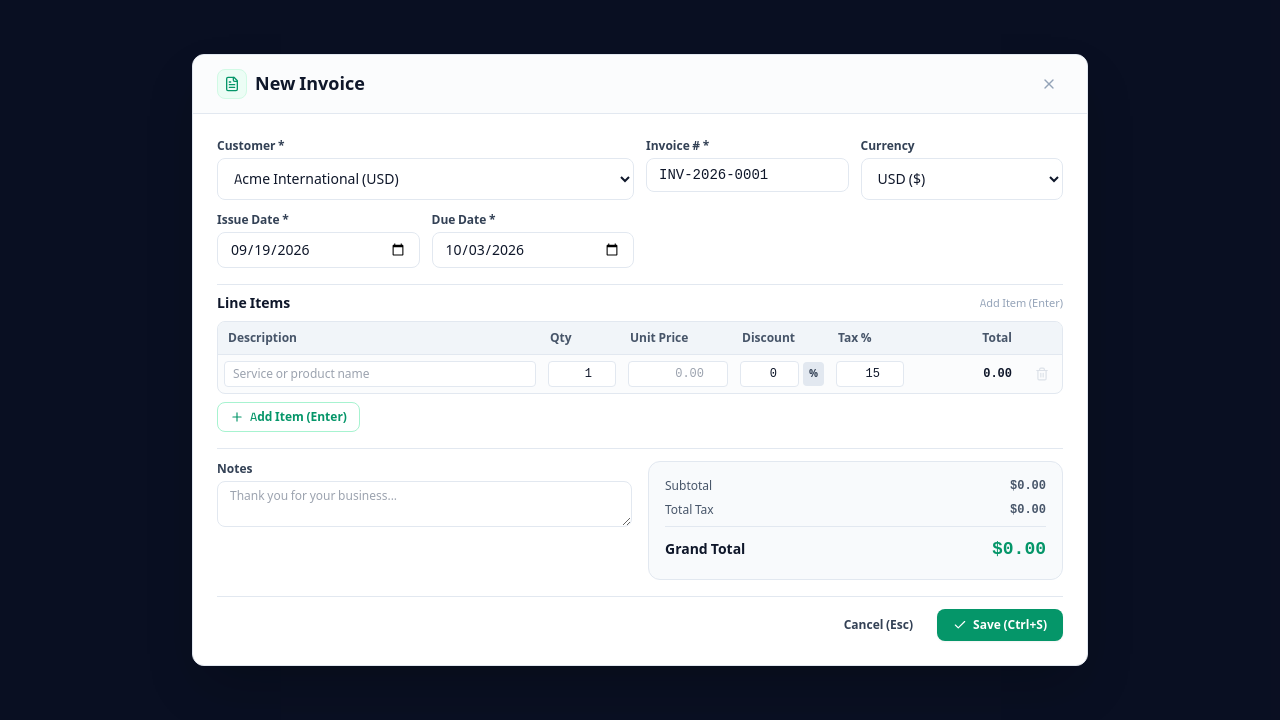
Integration Test: InvoiceForm Component (AC3 & Real-Time Calculations) › validates required fields and rejects submission when due date is before issue date
Type "2026-09-20" into the date field labelled "Issue Date *". click: (318, 250)
box: x1=217 y1=232 x2=420 y2=268
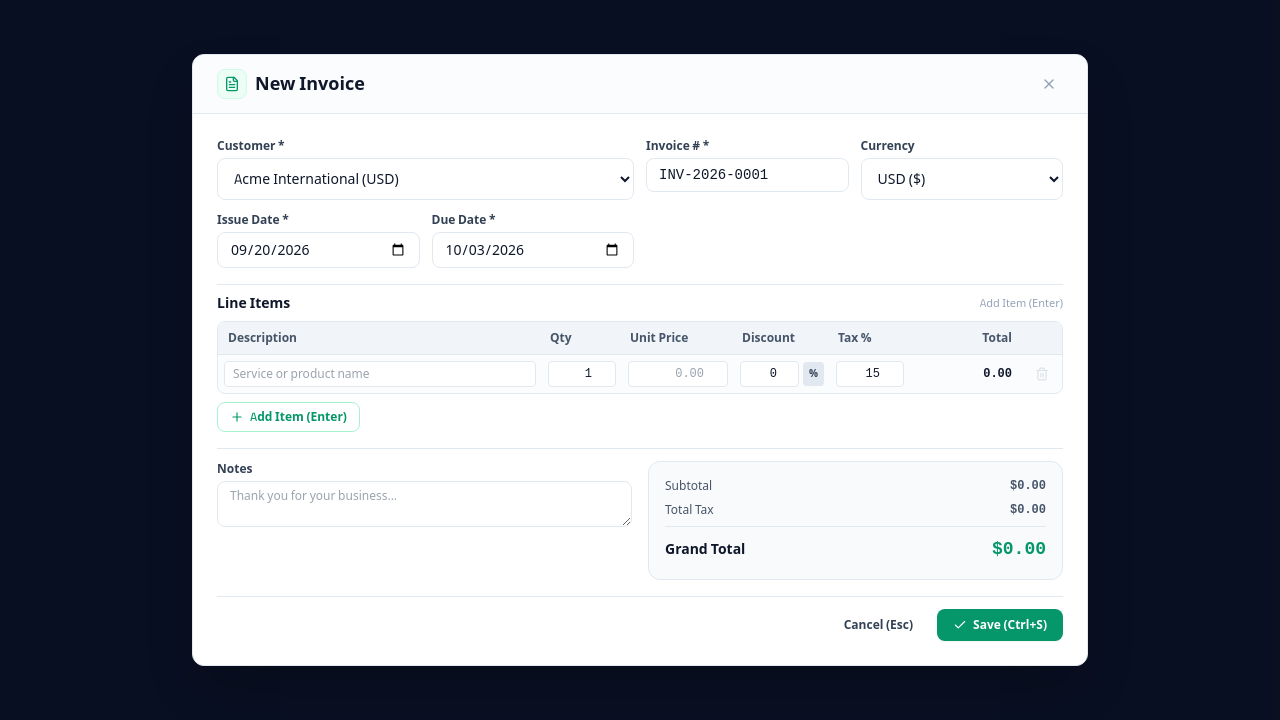
Type "2026-09-10" into the date field labelled "Due Date *". click: (533, 250)
box: x1=432 y1=232 x2=634 y2=268
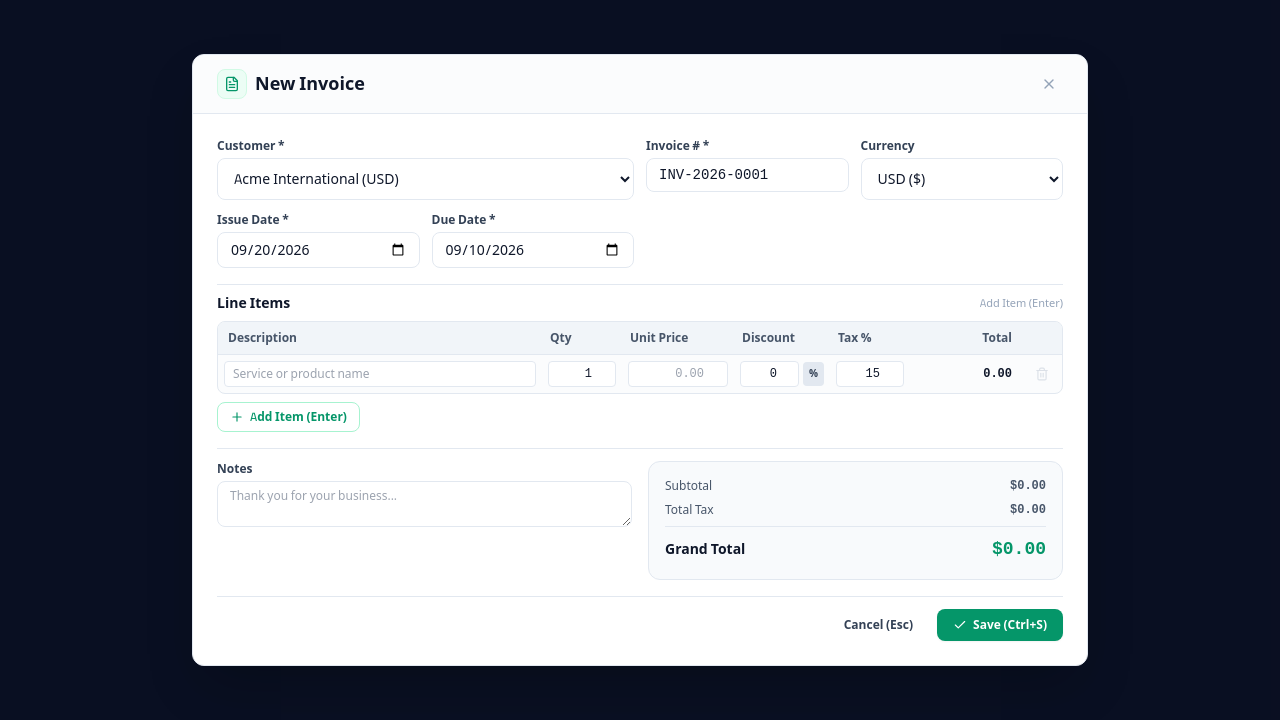
Click the button "Save (Ctrl+S)". click: (1000, 625)
box: x1=937 y1=609 x2=1063 y2=641
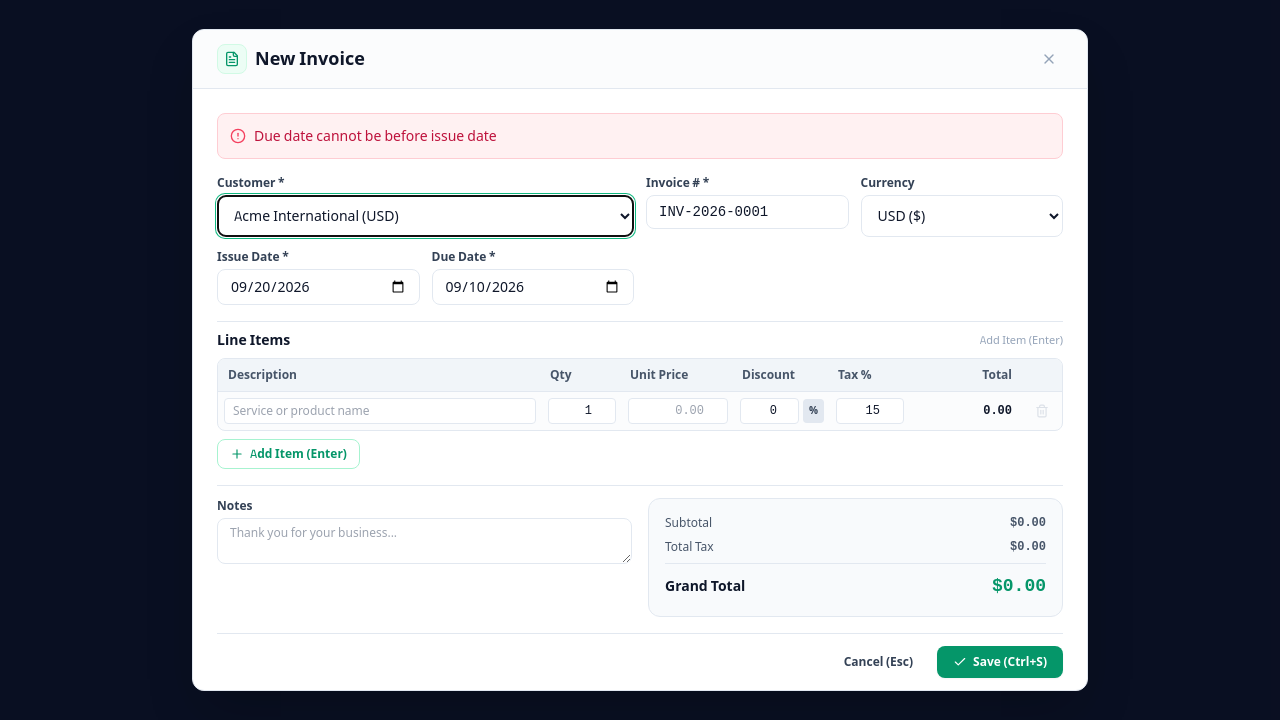
Check: the text "Due date cannot be before issue date" is shown, box x1=254 y1=126 x2=497 y2=146
